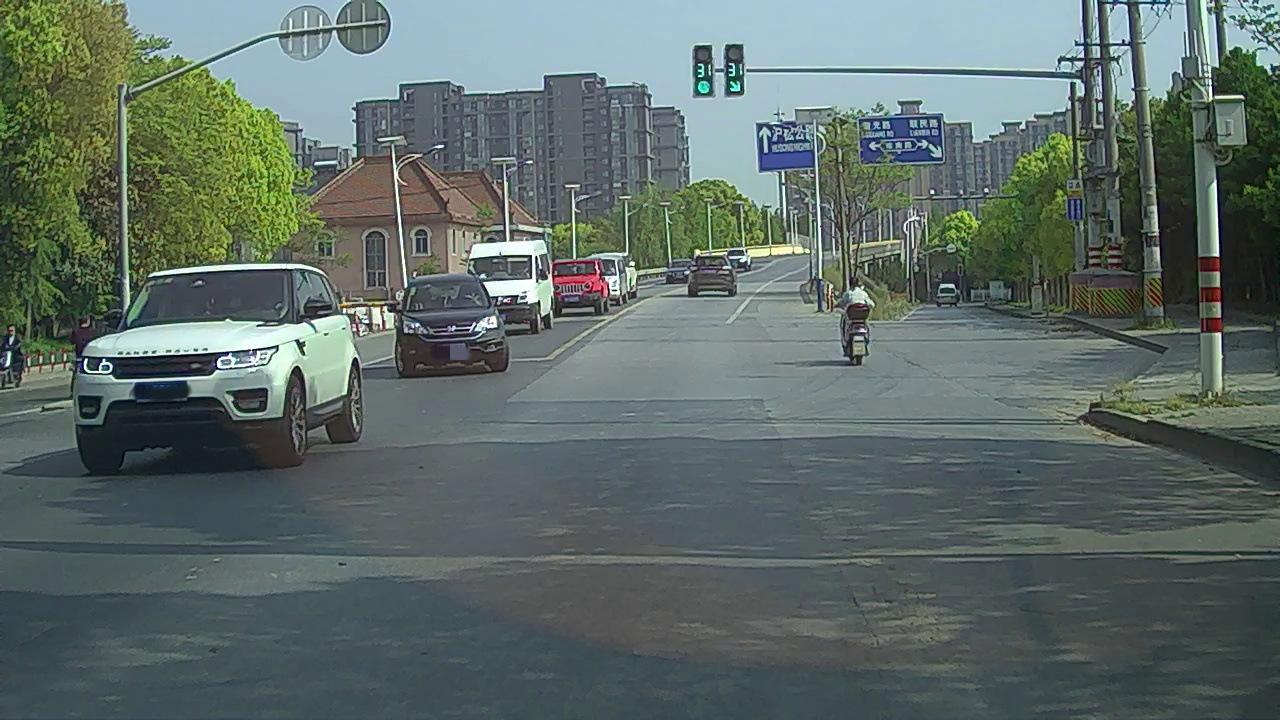traffic_light: (694, 46, 714, 98), (726, 42, 743, 94)
